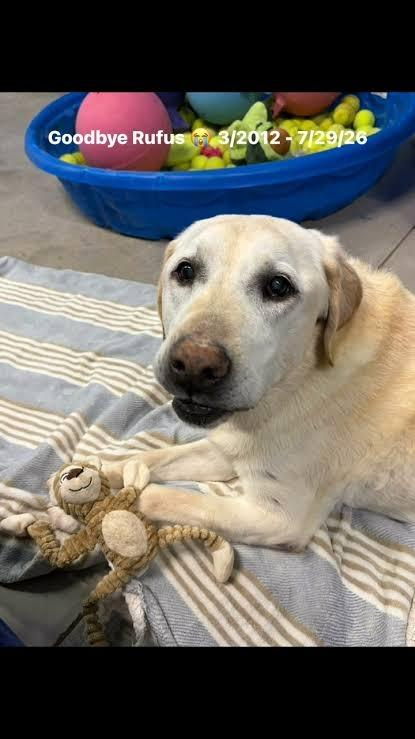adult_dog: (104, 212, 415, 556)
